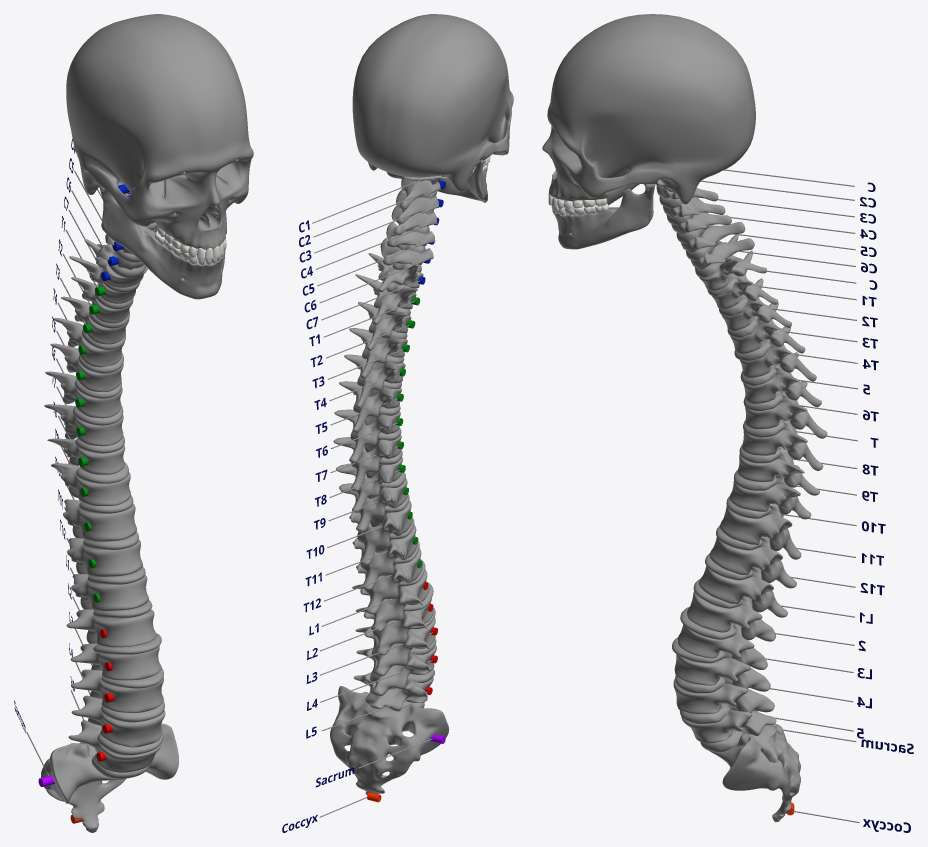
File: spine.fbx
3 views of the same model, side by side, from view 1: azimuth 30°, elevation 25°; view 2: azimuth 150°, elevation 25°; view 3: azimuth 270°, elevation 25° (orthographic). The views are drawn at different scales.
Visible parts, largest first — view 1: Male_Skeletal_Skull_Geo, Male_Skeletal_Intervertabral_Discs_Geo, Male_Skeletal_Sacrum_Geo, Male_Skeletal_Mandible_Geo, Male_Skeletal_L01_Geo, Male_Skeletal_T10_Geo, Male_Skeletal_L03_Geo, Male_Skeletal_L04_Geo, Male_Skeletal_T12_Geo, Male_Skeletal_T11_Geo, Male_Skeletal_L02_Geo, Male_Skeletal_T09_Geo (+10 smaller); view 2: Male_Skeletal_Skull_Geo, Male_Skeletal_Sacrum_Geo, Male_Skeletal_Intervertabral_Discs_Geo, Male_Skeletal_T10_Geo, Male_Skeletal_L03_Geo, Male_Skeletal_T11_Geo, Male_Skeletal_L04_Geo, Male_Skeletal_L01_Geo, Male_Skeletal_T12_Geo, Male_Skeletal_T06_Geo, Male_Skeletal_L02_Geo, Male_Skeletal_L05_Geo (+15 smaller); view 3: Male_Skeletal_Skull_Geo, Male_Skeletal_Intervertabral_Discs_Geo, Male_Skeletal_Sacrum_Geo, Male_Skeletal_Mandible_Geo, Male_Skeletal_L01_Geo, Male_Skeletal_T10_Geo, Male_Skeletal_T11_Geo, Male_Skeletal_T12_Geo, Male_Skeletal_L04_Geo, Male_Skeletal_L03_Geo, Male_Skeletal_L02_Geo, Male_Skeletal_T09_Geo (+14 smaller).
Part boxes in pixels (x1=…): Male_Skeletal_Skull_Geo: x1=66, y1=14, x2=253, y2=249; Male_Skeletal_Intervertabral_Discs_Geo: x1=73, y1=222, x2=164, y2=778; Male_Skeletal_Sacrum_Geo: x1=41, y1=723, x2=178, y2=832; Male_Skeletal_Mandible_Geo: x1=99, y1=185, x2=225, y2=299; Male_Skeletal_L01_Geo: x1=66, y1=609, x2=156, y2=647; Male_Skeletal_T10_Geo: x1=63, y1=499, x2=136, y2=541; Male_Skeletal_L03_Geo: x1=71, y1=669, x2=163, y2=712; Male_Skeletal_L04_Geo: x1=71, y1=695, x2=165, y2=747; Male_Skeletal_T12_Geo: x1=71, y1=574, x2=148, y2=611; Male_Skeletal_T11_Geo: x1=67, y1=538, x2=142, y2=576; Male_Skeletal_L02_Geo: x1=70, y1=643, x2=161, y2=680; Male_Skeletal_T09_Geo: x1=51, y1=463, x2=130, y2=505; Male_Skeletal_Skull_Geo: x1=352, y1=14, x2=513, y2=191; Male_Skeletal_Sacrum_Geo: x1=330, y1=686, x2=449, y2=794; Male_Skeletal_Intervertabral_Discs_Geo: x1=368, y1=191, x2=437, y2=708; Male_Skeletal_T10_Geo: x1=349, y1=500, x2=412, y2=565; Male_Skeletal_L03_Geo: x1=355, y1=617, x2=435, y2=676; Male_Skeletal_T11_Geo: x1=352, y1=525, x2=417, y2=590; Male_Skeletal_L04_Geo: x1=356, y1=645, x2=436, y2=696; Male_Skeletal_L01_Geo: x1=352, y1=569, x2=429, y2=631; Male_Skeletal_T12_Geo: x1=356, y1=548, x2=422, y2=614; Male_Skeletal_T06_Geo: x1=334, y1=409, x2=400, y2=463; Male_Skeletal_L02_Geo: x1=355, y1=598, x2=433, y2=655; Male_Skeletal_L05_Geo: x1=354, y1=672, x2=433, y2=711; Male_Skeletal_Skull_Geo: x1=542, y1=14, x2=755, y2=204; Male_Skeletal_Intervertabral_Discs_Geo: x1=659, y1=196, x2=784, y2=752; Male_Skeletal_Sacrum_Geo: x1=709, y1=710, x2=800, y2=822; Male_Skeletal_Mandible_Geo: x1=552, y1=184, x2=655, y2=249; Male_Skeletal_L01_Geo: x1=687, y1=591, x2=775, y2=641; Male_Skeletal_T10_Geo: x1=720, y1=504, x2=801, y2=559; Male_Skeletal_T11_Geo: x1=709, y1=536, x2=796, y2=588; Male_Skeletal_T12_Geo: x1=699, y1=566, x2=787, y2=617; Male_Skeletal_L04_Geo: x1=673, y1=677, x2=774, y2=713; Male_Skeletal_L03_Geo: x1=674, y1=652, x2=770, y2=691; Male_Skeletal_L02_Geo: x1=678, y1=624, x2=767, y2=669; Male_Skeletal_T09_Geo: x1=729, y1=465, x2=811, y2=519.
Bounding box in the file's own units: 13.87 × 81.66 × 34.39.
